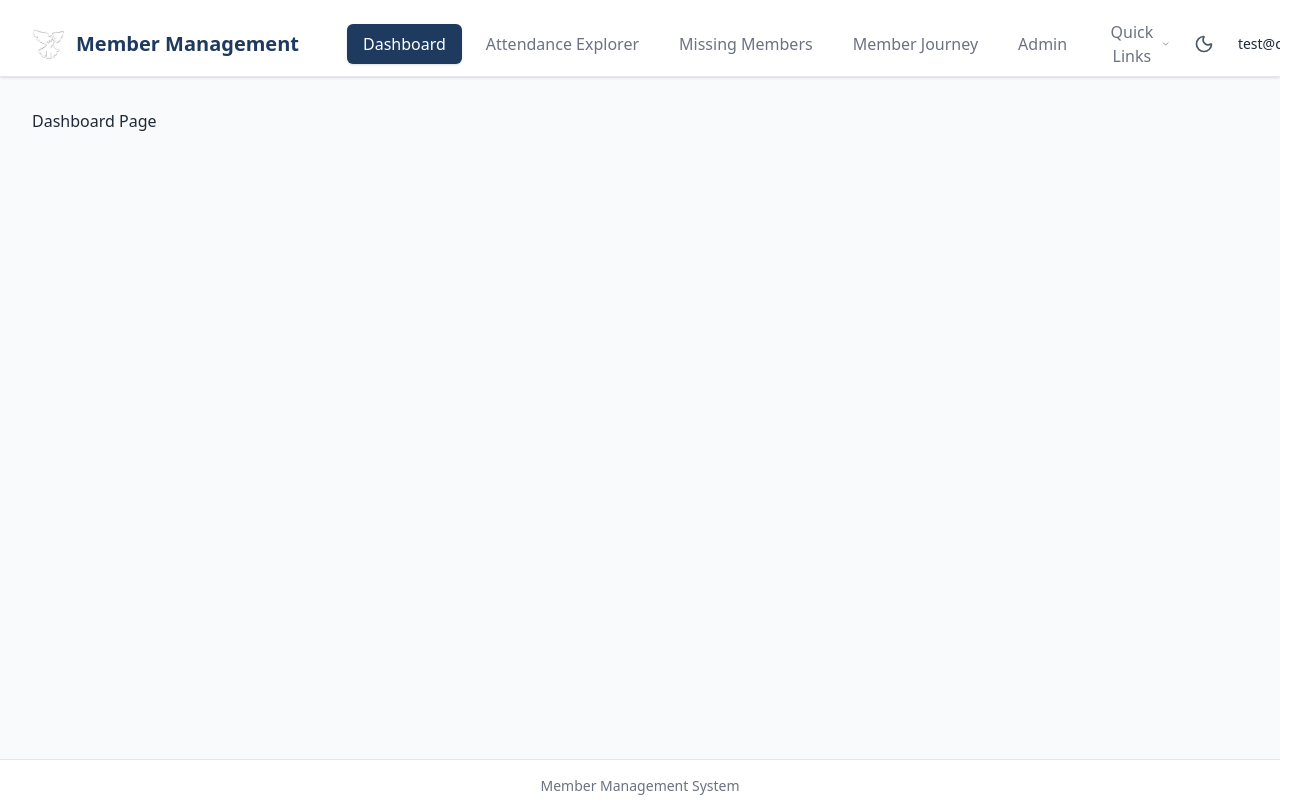
Scenario: MainLayout Navigation - User Interaction › should navigate to missing members page when clicking Missing Members tab
This screenshot has width=1292, height=812.
Click the link "Missing Members".
click(746, 44)  # box [679,33,813,55]
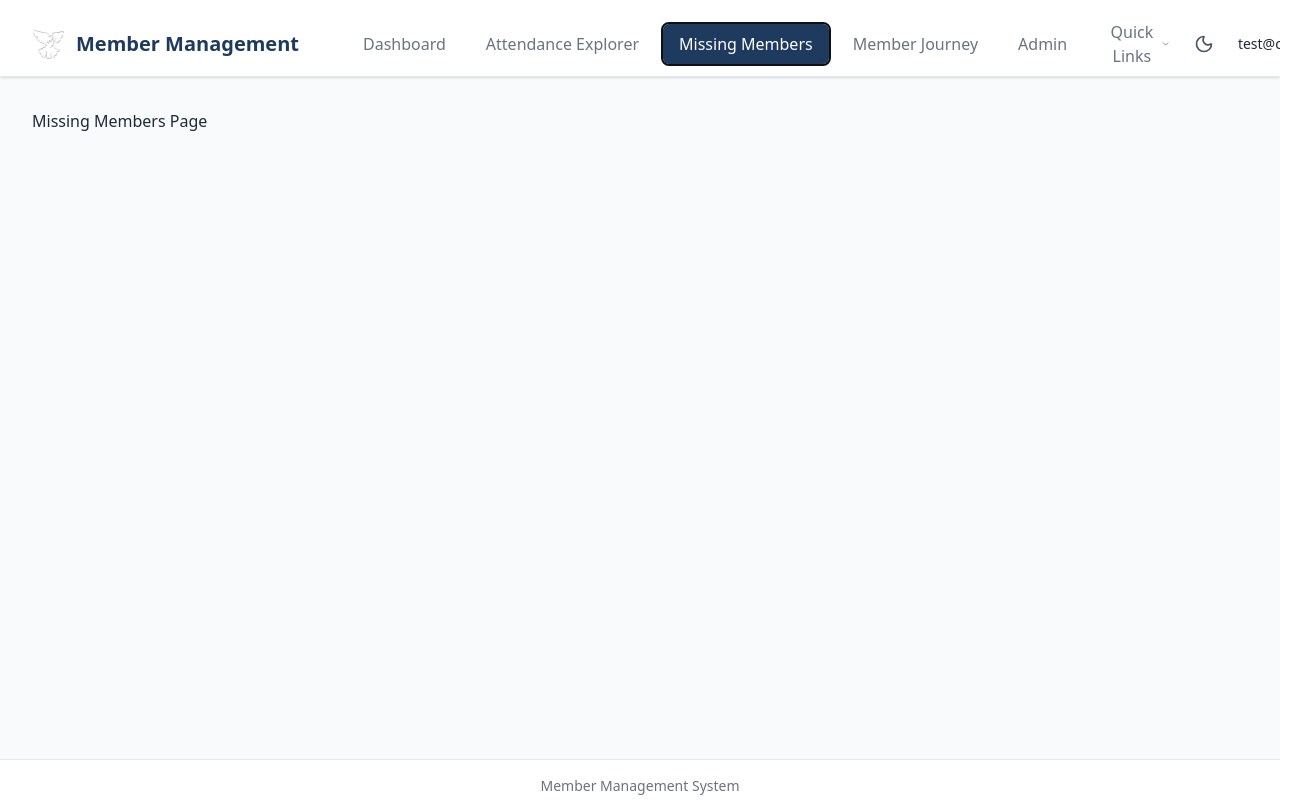
Expected: the text "Missing Members Page" is shown, [32,110,207,132]
